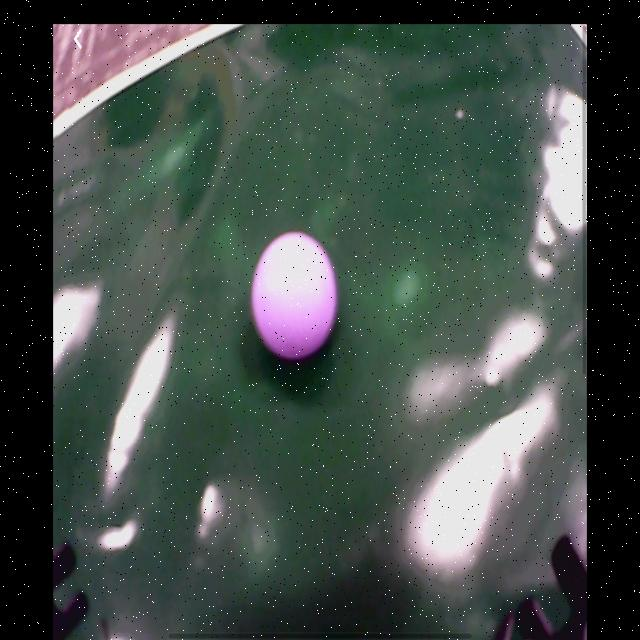ball: (249, 231, 342, 368)
